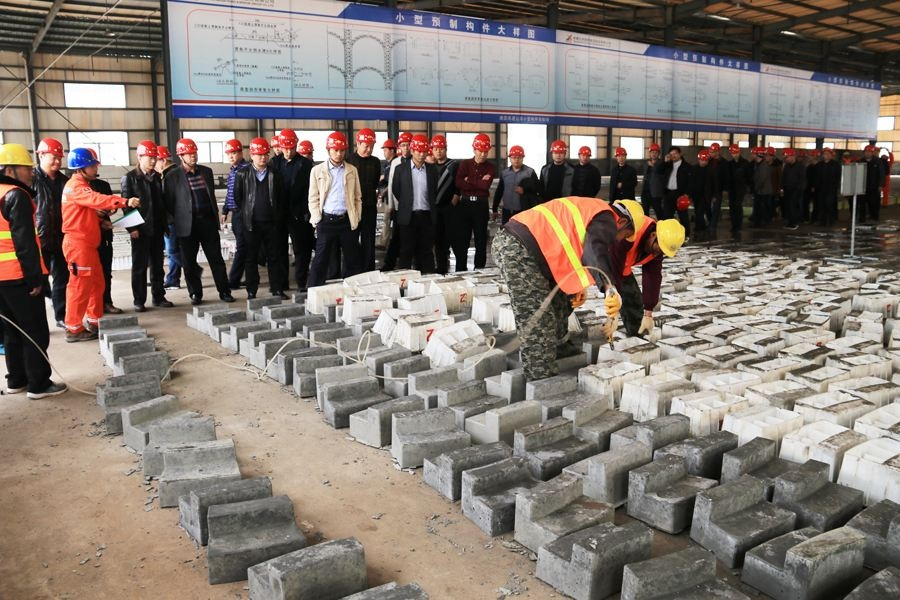blue: (66, 146, 99, 179)
none: (667, 146, 683, 164)
red: (35, 136, 64, 173), (325, 130, 348, 166), (134, 138, 158, 171), (174, 137, 199, 168), (247, 136, 272, 167), (355, 126, 376, 159), (277, 128, 298, 160), (470, 132, 491, 163), (409, 134, 430, 164), (153, 144, 173, 175), (223, 137, 243, 166), (429, 134, 448, 161), (506, 144, 527, 168), (549, 138, 567, 165), (397, 131, 413, 157), (297, 139, 315, 161), (577, 144, 593, 165), (381, 139, 396, 160), (269, 134, 283, 156), (613, 147, 628, 166), (647, 142, 661, 161), (728, 141, 742, 159), (696, 149, 710, 166), (765, 145, 776, 163), (783, 148, 796, 163), (821, 146, 834, 161), (708, 142, 720, 158), (753, 145, 764, 161), (863, 144, 875, 157)
yellow: (609, 195, 646, 247), (1, 139, 36, 193), (648, 216, 688, 261)
